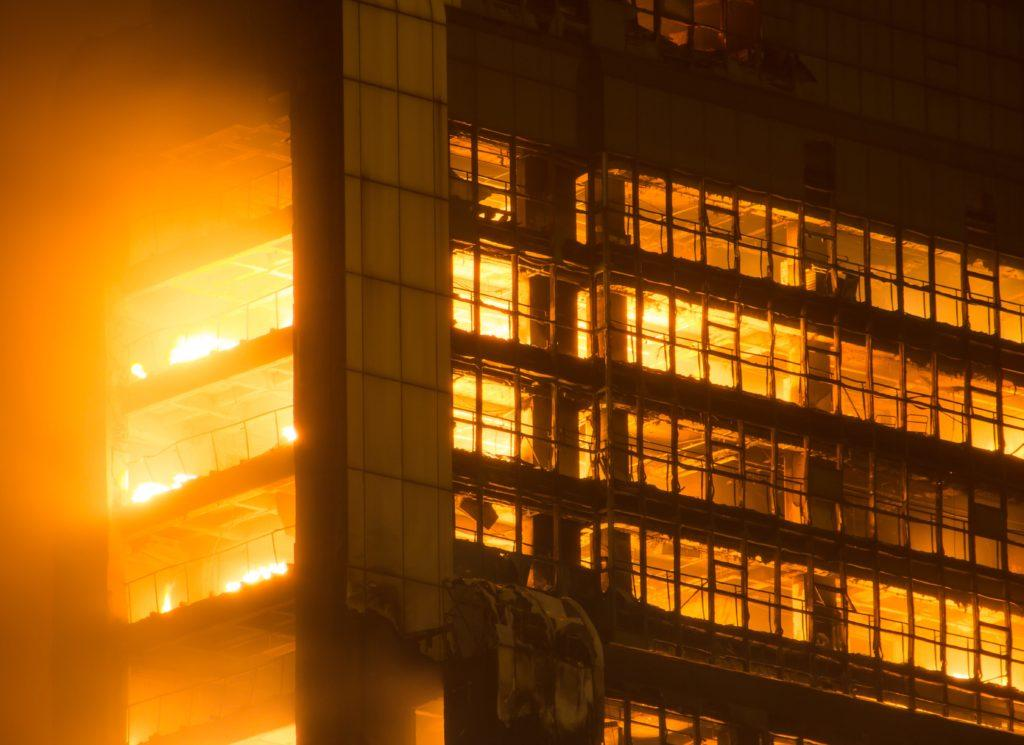Fire: (96, 235, 316, 745)
